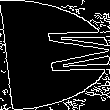M_W: (4, 30, 106, 80)
